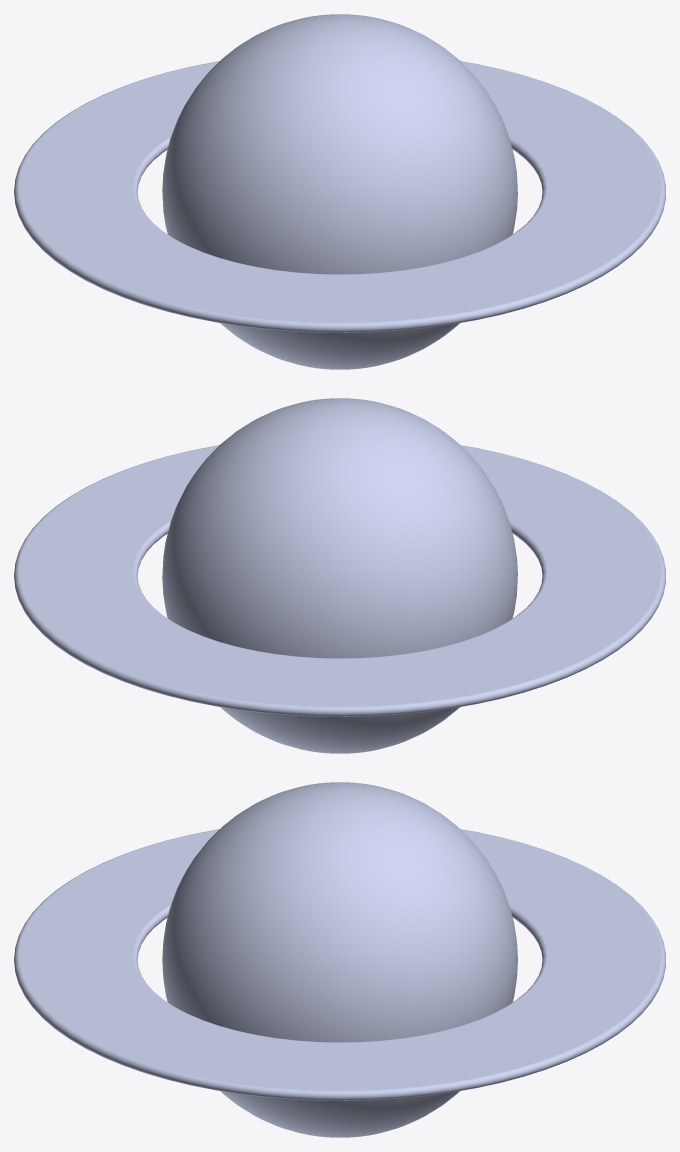
The model's file is planete.fbx.
3 renders of one model, top to bottom at view 1: azimuth 30°, elevation 25°; view 2: azimuth 150°, elevation 25°; view 3: azimuth 270°, elevation 25°, orthographic.
Parts seen in each view (by area): view 1: Body_1, Body_2; view 2: Body_1, Body_2; view 3: Body_1, Body_2.
Boxes of the visible parts, x1,y1,x2,y2 form: Body_1: (162,14,517,369); Body_2: (14,61,665,332); Body_1: (162,398,517,753); Body_2: (14,445,665,716); Body_1: (162,782,517,1137); Body_2: (14,829,665,1100).
Size of the model in its own units: 1.83 by 1.83 by 1.
